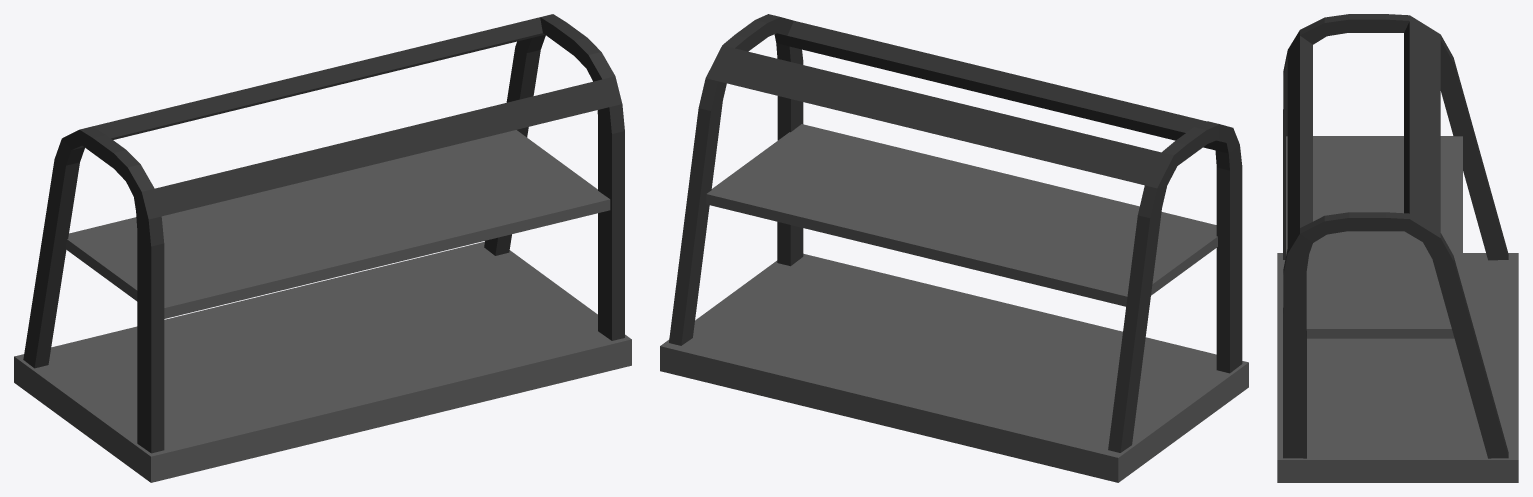
File: shelf.fbx
The picture shows the model from 3 angles, left to right: view 1: azimuth 30°, elevation 25°; view 2: azimuth 150°, elevation 25°; view 3: azimuth 270°, elevation 25°; orthographic projection. The views are drawn at different scales.
Visible parts, largest first — view 1: Shelf.003; view 2: Shelf.003; view 3: Shelf.003.
Part boxes in pixels (box(x1,y1,x2,y2)): Shelf.003: box(14, 14, 631, 482); Shelf.003: box(660, 14, 1248, 482); Shelf.003: box(1277, 14, 1518, 482).
Size of the model in its own units: 1.05 by 0.6255 by 0.5194.
